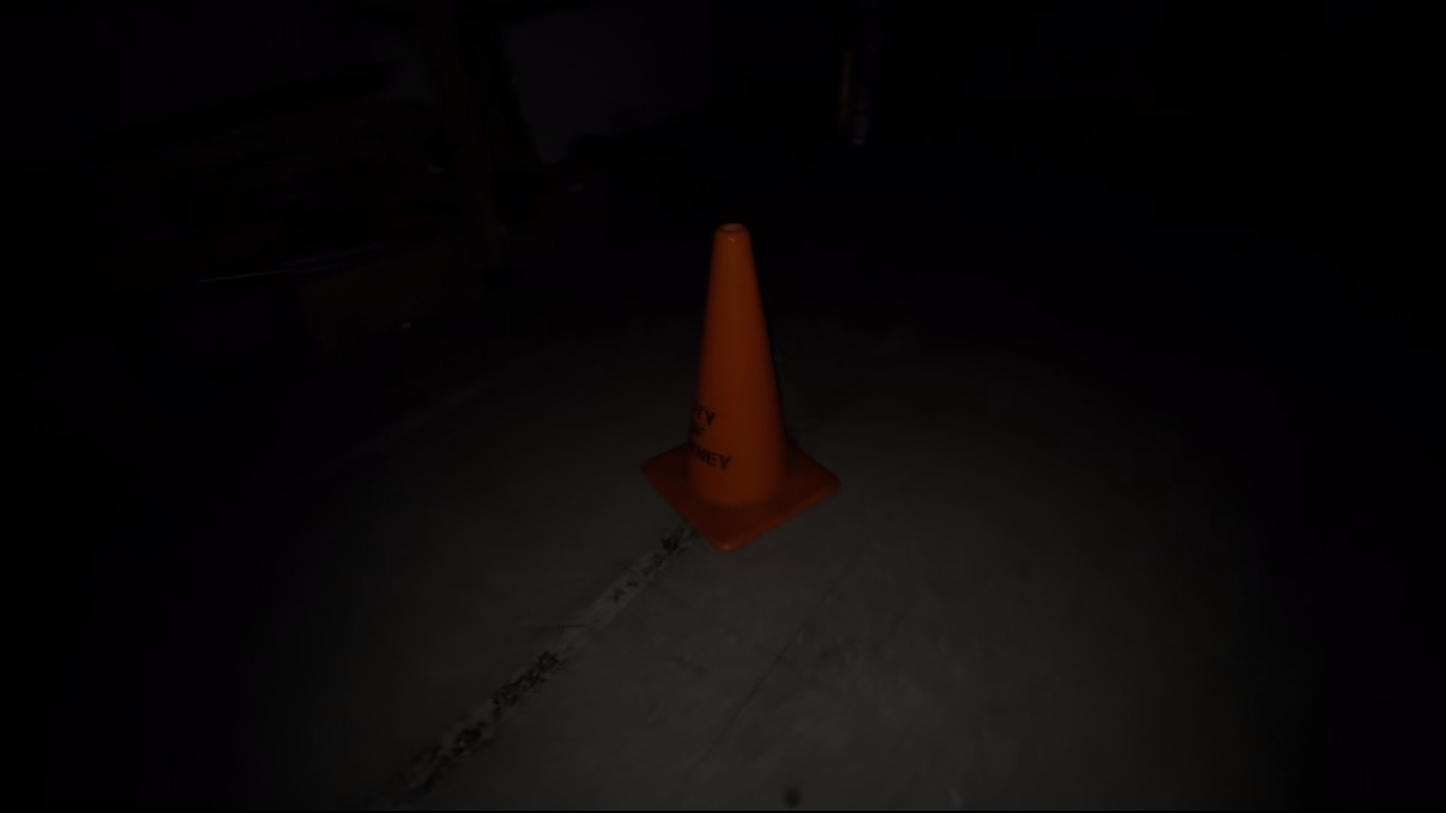traffic_cone: (639, 222, 842, 553)
